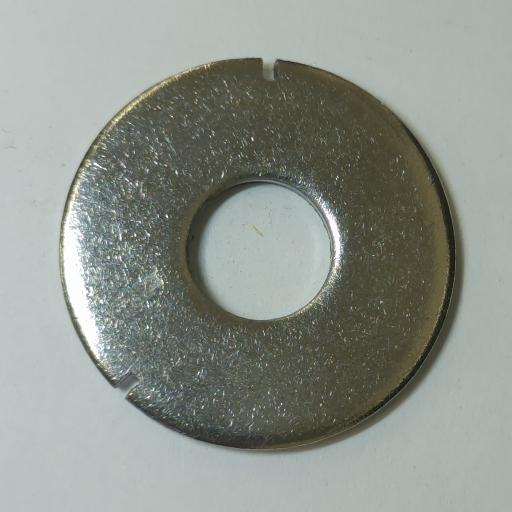burr: (117, 372, 141, 397), (260, 57, 279, 81)
